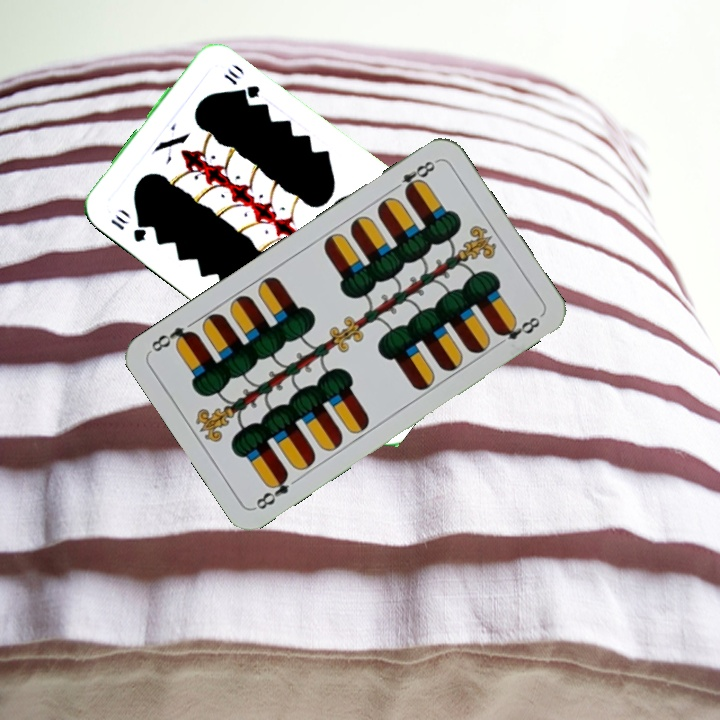E8: (251, 468, 303, 512), (387, 156, 440, 197)
G10: (106, 209, 149, 245)
